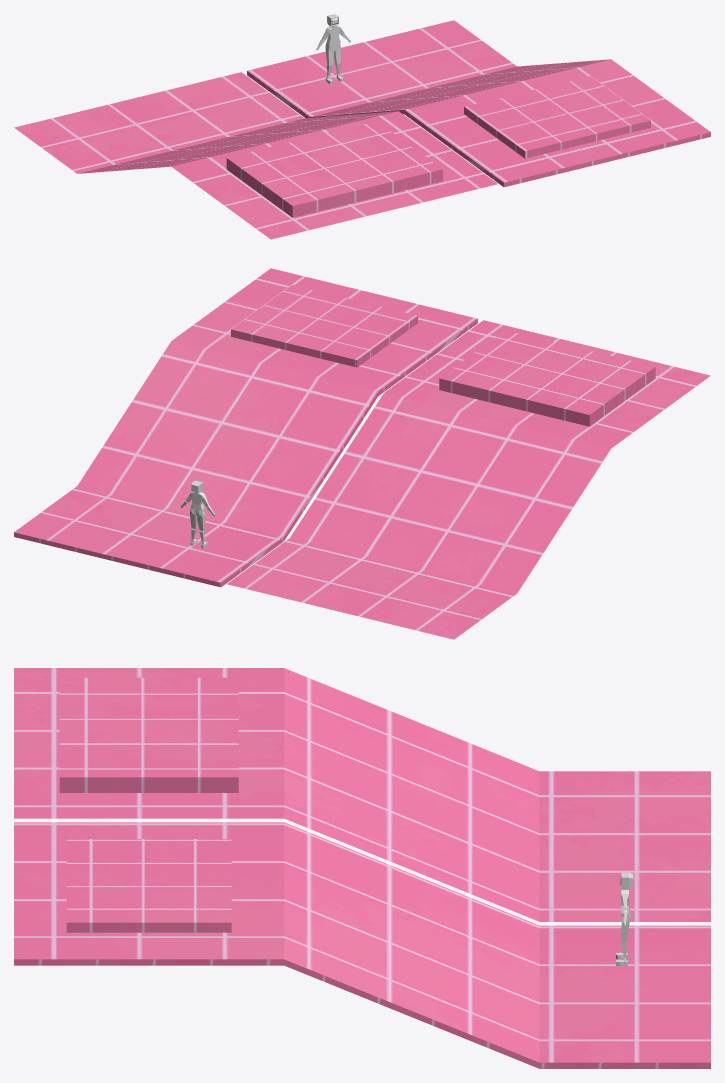
The model's file is level1.dae.
3 views of the same model, one above another, from view 1: azimuth 30°, elevation 25°; view 2: azimuth 150°, elevation 25°; view 3: azimuth 270°, elevation 25° (orthographic). The views are drawn at different scales.
Parts seen in each view (by area): view 1: Plane.002, Plane.001, testDummy.001; view 2: Plane.002, Plane.001, testDummy.001; view 3: Plane.002, Plane.001, testDummy.001.
Part boxes in pixels (<box>): Plane.002: <box>14,72,497,239</box>; Plane.001: <box>247,20,710,187</box>; testDummy.001: <box>316,14,350,84</box>; Plane.002: <box>227,320,710,639</box>; Plane.001: <box>14,268,477,587</box>; testDummy.001: <box>180,480,215,548</box>; Plane.002: <box>14,668,710,921</box>; Plane.001: <box>14,822,710,1068</box>; testDummy.001: <box>616,872,633,966</box>.
Size of the model in its own units: 16.75 by 16.94 by 3.36.
1 material, 1 textured.
